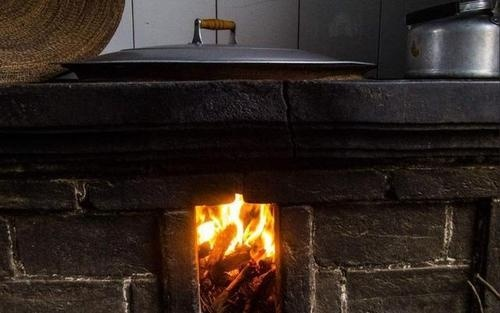fire: (194, 190, 278, 259)
